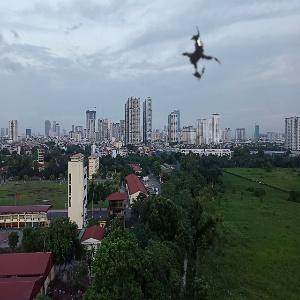drone: (157, 10, 246, 99)
